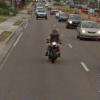Motorcycle: (41, 27, 65, 63)
